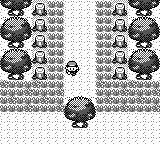captura: (95, 0, 159, 112), (0, 1, 64, 112)
main: (66, 62, 79, 75)
no-caminable: (0, 0, 32, 80), (128, 0, 159, 80), (112, 1, 128, 79), (32, 1, 47, 80), (64, 97, 95, 128)
